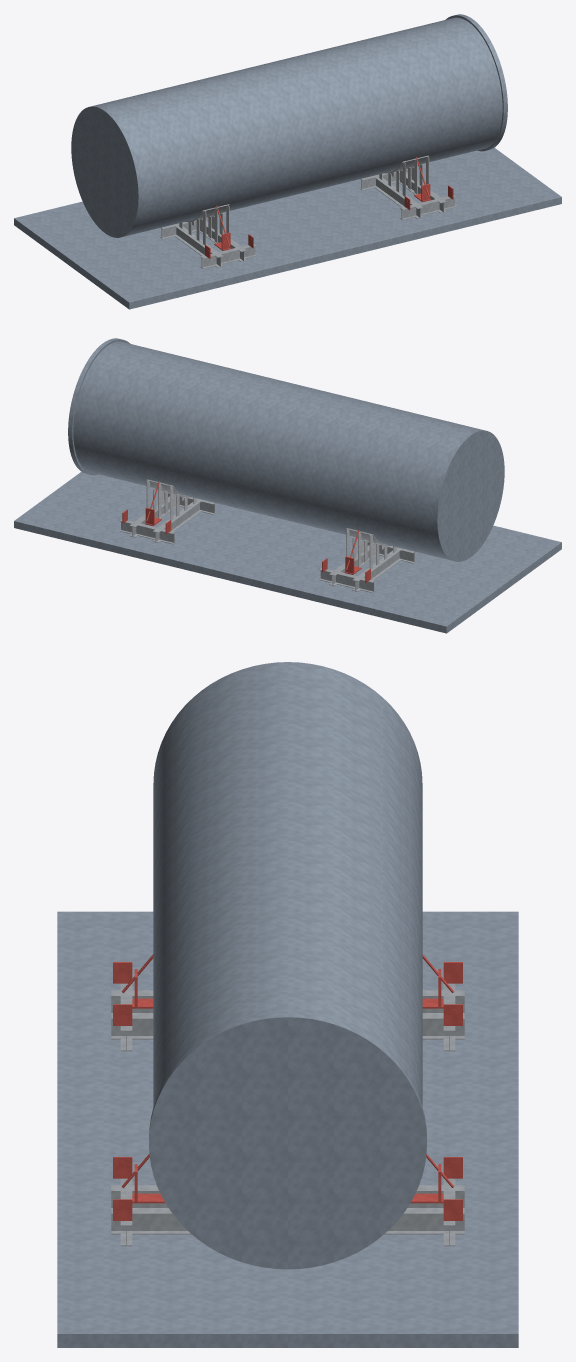
The model's file is monopile-sea-fastening-grillages.glb.
The picture shows the model from 3 angles, top to bottom: view 1: azimuth 30°, elevation 25°; view 2: azimuth 150°, elevation 25°; view 3: azimuth 270°, elevation 25°; orthographic projection. The views are drawn at different scales.
Parts seen in each view (by area): view 1: Monopile(context), VesselDeck(context), GrillageBeams, WebPlates, LashingLugs&Stoppers, Saddles; view 2: Monopile(context), VesselDeck(context), GrillageBeams, WebPlates, LashingLugs&Stoppers, Saddles; view 3: Monopile(context), VesselDeck(context), GrillageBeams, LashingLugs&Stoppers.
Part boxes in pixels (x1=…): Monopile(context): x1=71, y1=14, x2=507, y2=237; VesselDeck(context): x1=14, y1=148, x2=561, y2=309; GrillageBeams: x1=160, y1=168, x2=455, y2=268; WebPlates: x1=179, y1=156, x2=429, y2=244; LashingLugs&Stoppers: x1=205, y1=157, x2=453, y2=258; Saddles: x1=185, y1=155, x2=428, y2=222; Monopile(context): x1=68, y1=338, x2=504, y2=561; VesselDeck(context): x1=14, y1=472, x2=561, y2=633; GrillageBeams: x1=120, y1=492, x2=415, y2=592; WebPlates: x1=146, y1=480, x2=396, y2=568; LashingLugs&Stoppers: x1=122, y1=481, x2=370, y2=582; Saddles: x1=147, y1=479, x2=390, y2=546; Monopile(context): x1=149, y1=662, x2=426, y2=1269; VesselDeck(context): x1=57, y1=911, x2=518, y2=1347; GrillageBeams: x1=111, y1=983, x2=464, y2=1246; LashingLugs&Stoppers: x1=113, y1=954, x2=462, y2=1220.
Size of the model in its own units: 26 by 8.62 by 12.
5 materials, 5 textured.
